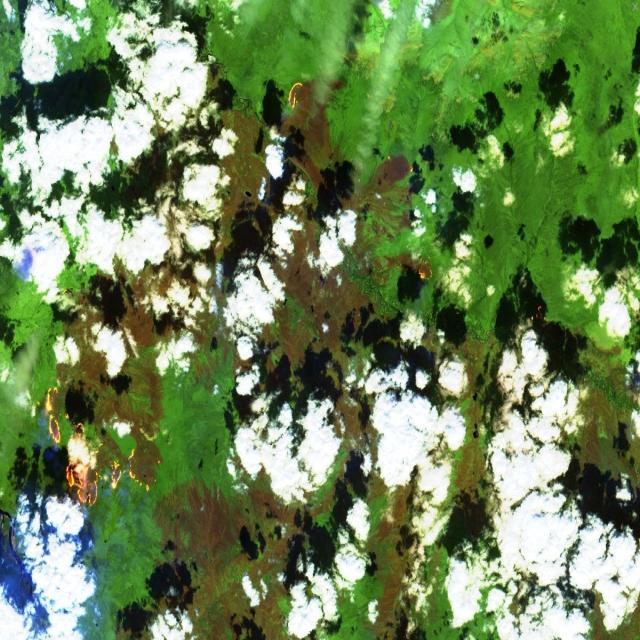fire: (39, 381, 154, 508), (284, 74, 317, 117), (416, 255, 439, 286)
